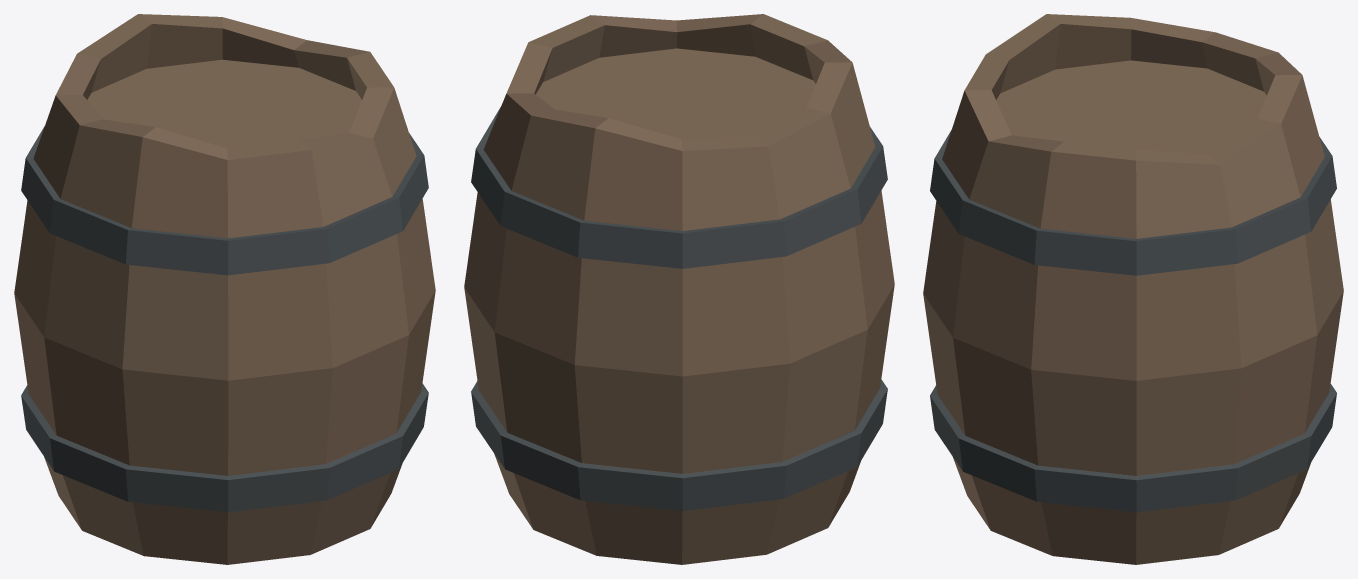
Rendered from Barrel_2.glb.
The picture shows the model from 3 angles, left to right: view 1: azimuth 30°, elevation 25°; view 2: azimuth 150°, elevation 25°; view 3: azimuth 270°, elevation 25°; orthographic projection. The views are drawn at different scales.
Visible parts, largest first — view 1: Barrel; view 2: Barrel; view 3: Barrel.
Part boxes in pixels (x1,y1,x2,y2): Barrel: [14, 14, 435, 564]; Barrel: [464, 14, 894, 564]; Barrel: [923, 14, 1343, 564].
Size of the model in its own units: 0.9169 by 1.01 by 0.9169.
